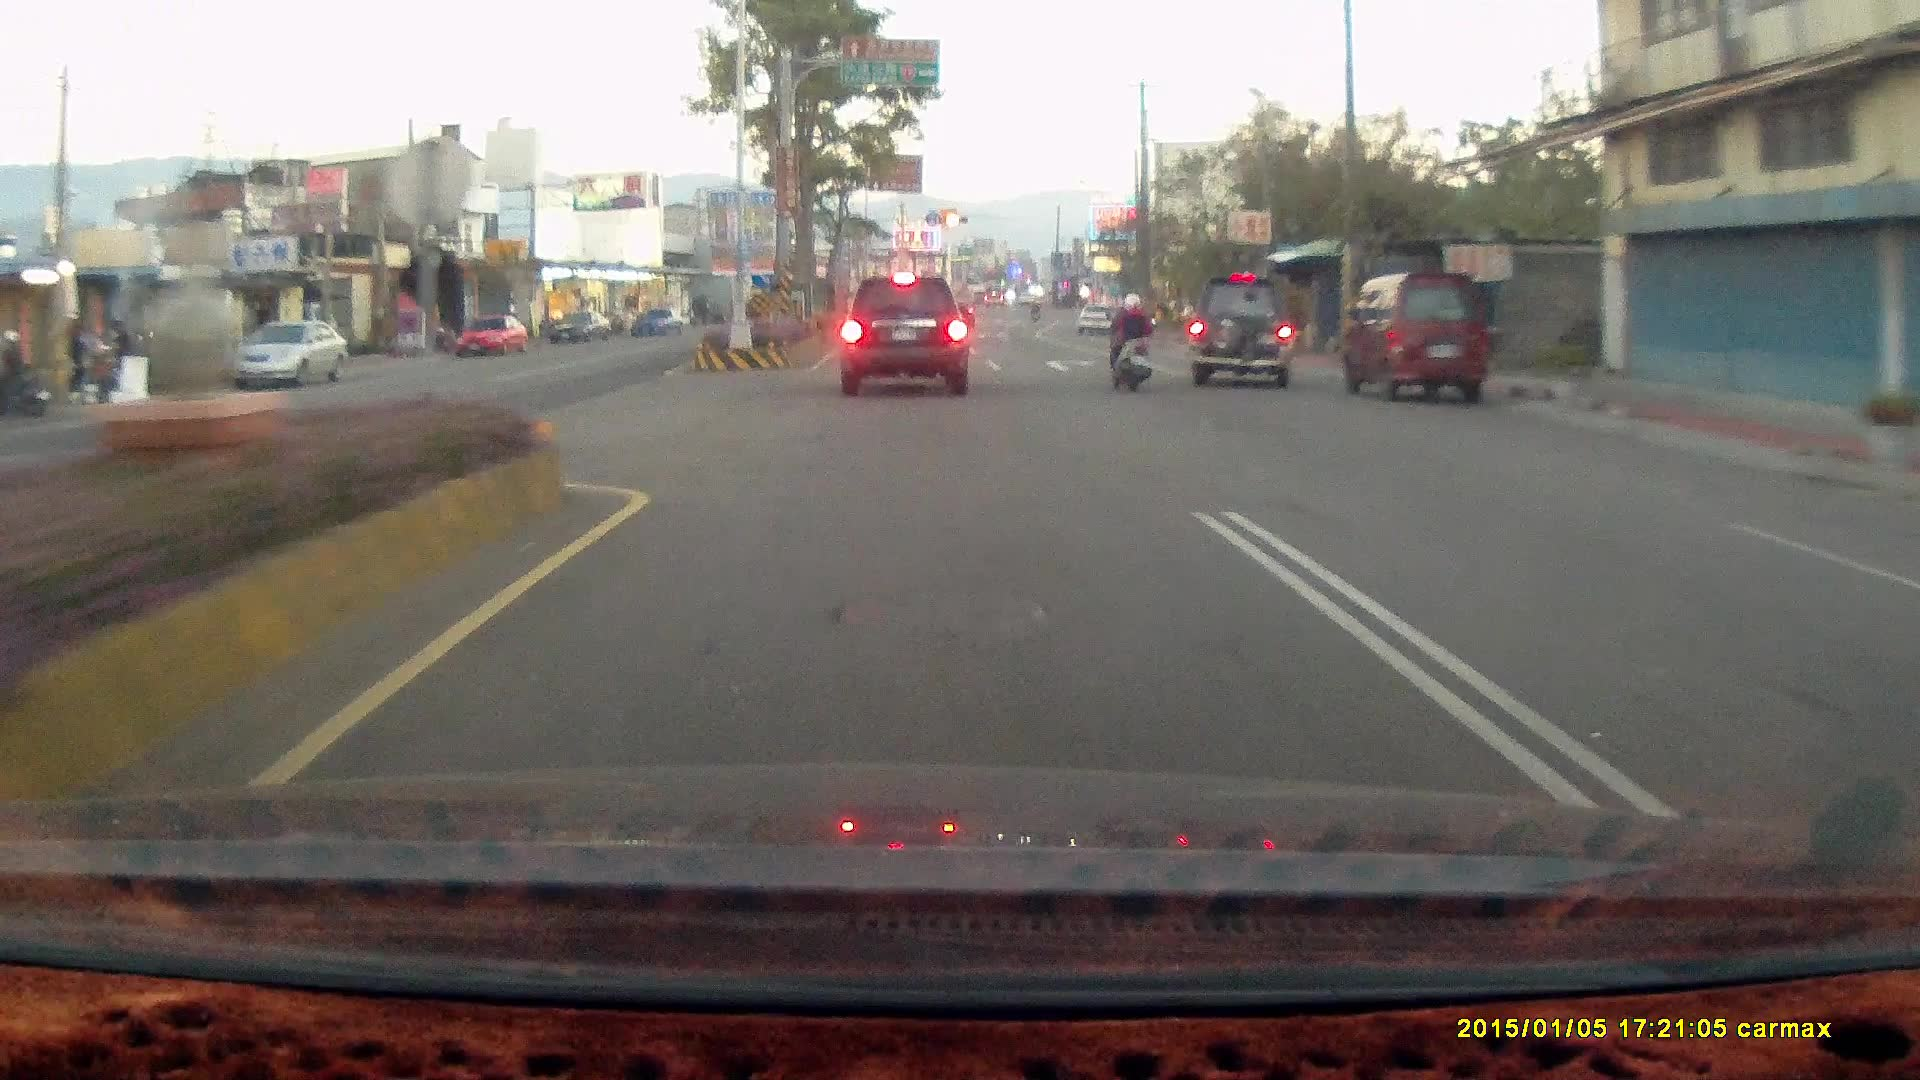pedestrian: (106, 313, 137, 384)
rider: (1106, 290, 1153, 393)
vehicle: (1335, 268, 1489, 404), (1346, 265, 1494, 403), (838, 269, 968, 393), (1186, 266, 1306, 380), (1184, 271, 1293, 384), (1896, 493, 1920, 836), (237, 319, 351, 389), (232, 318, 349, 385), (1883, 528, 1920, 690), (452, 313, 530, 358), (453, 314, 532, 359), (1075, 302, 1116, 333)
